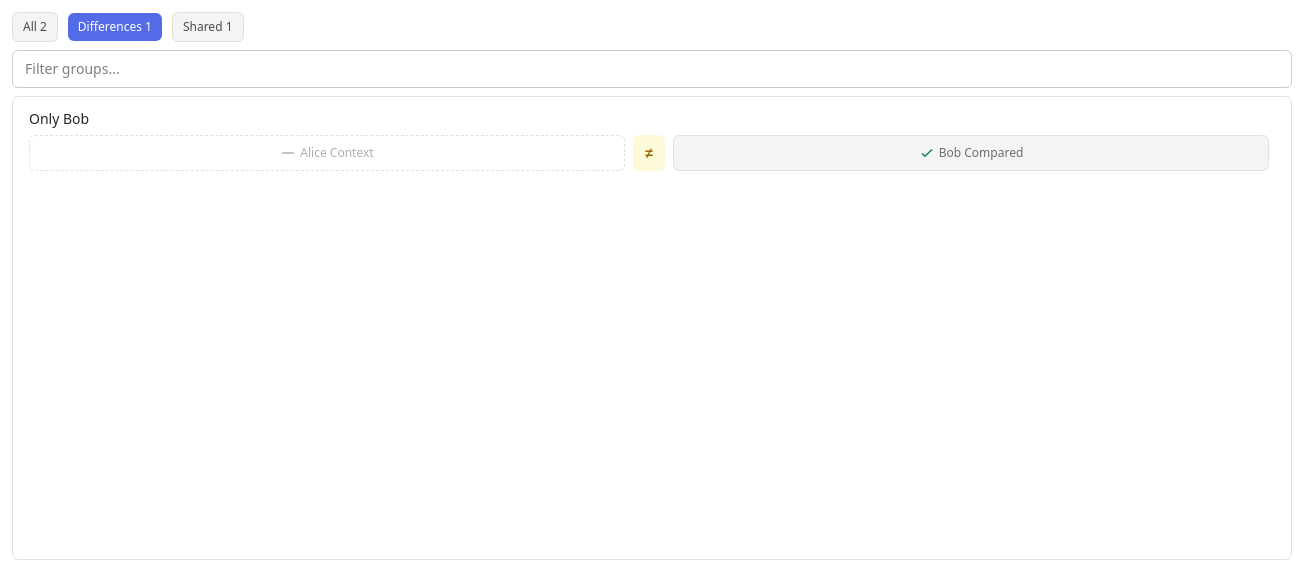
Test case: the row states the comparison › marks a shared item with = and a difference with ≠
The width and height of the screenshot is (1304, 577).
Click the button "All 2": (35, 27) [12,12,58,42]
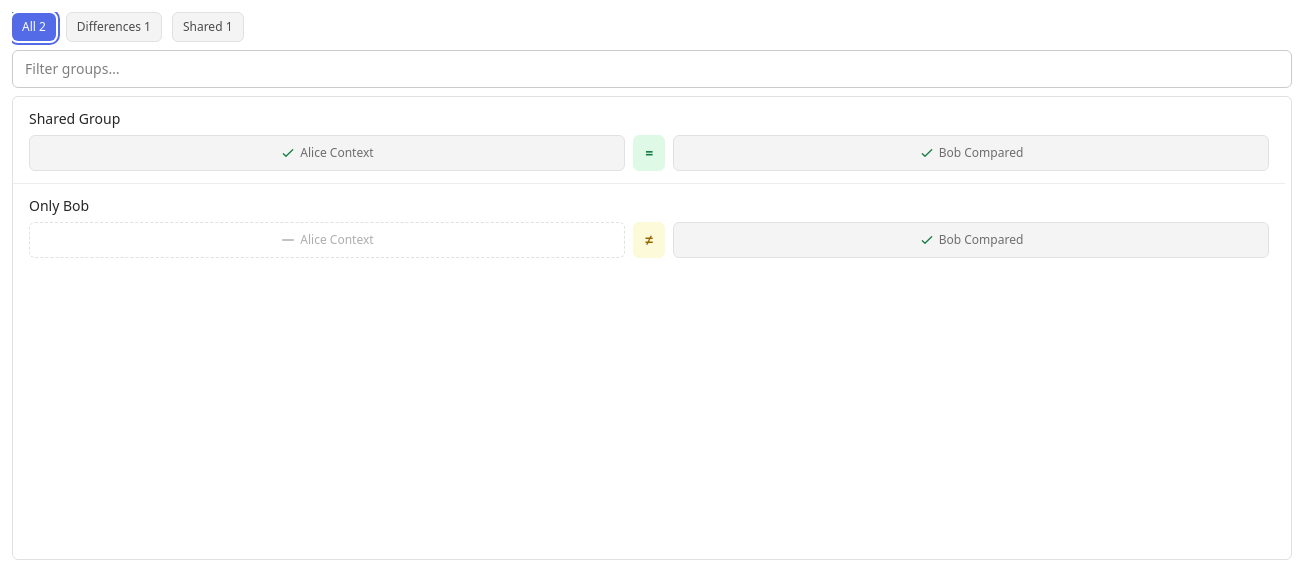
Check: the picture "≠" is shown, box [633,222,665,258]
Check: the picture "=" is shown, box [633,135,665,171]
